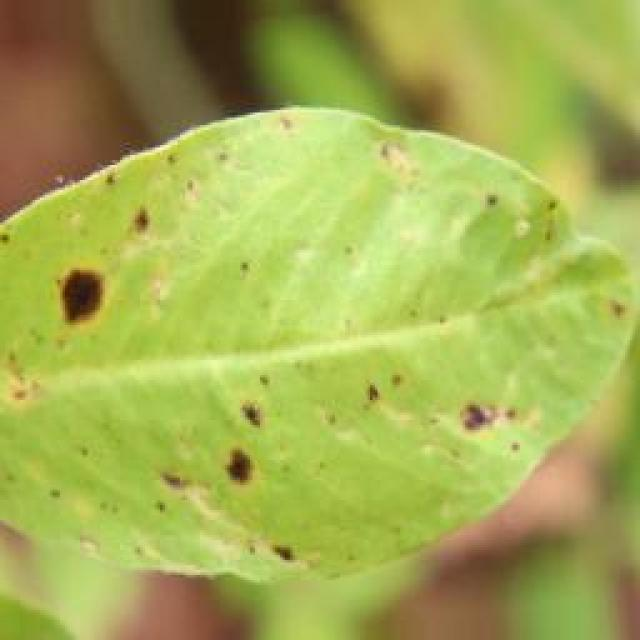Early_leaf_spot: (346, 98, 588, 245), (154, 114, 305, 276), (0, 342, 137, 511), (348, 366, 532, 468), (85, 186, 196, 275), (44, 240, 130, 348), (186, 398, 270, 498), (238, 520, 339, 590)
